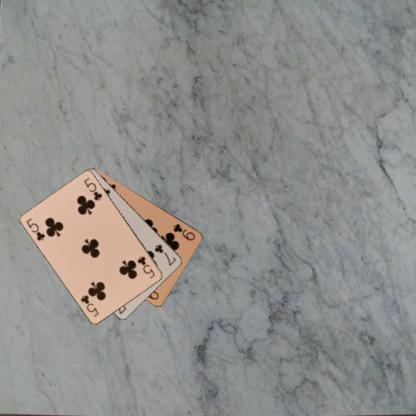5c: (134, 254, 156, 280), (24, 216, 46, 242)
7c: (152, 241, 177, 267)
9c: (171, 221, 196, 242)
